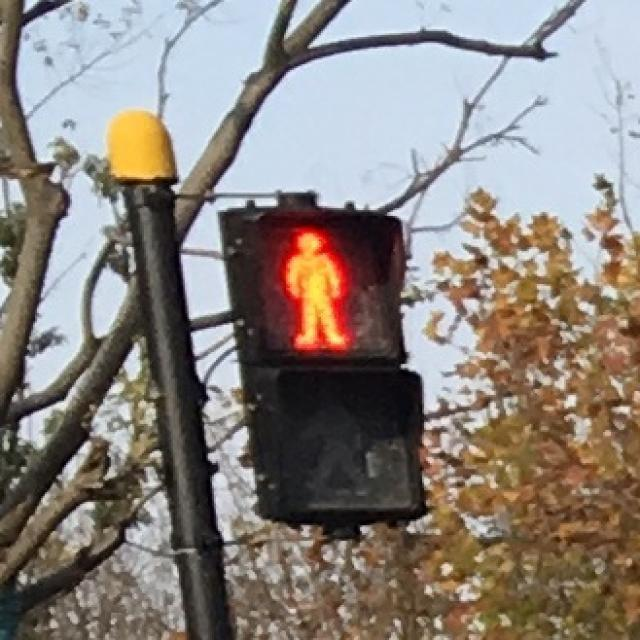red-crossing: (237, 206, 393, 354)
